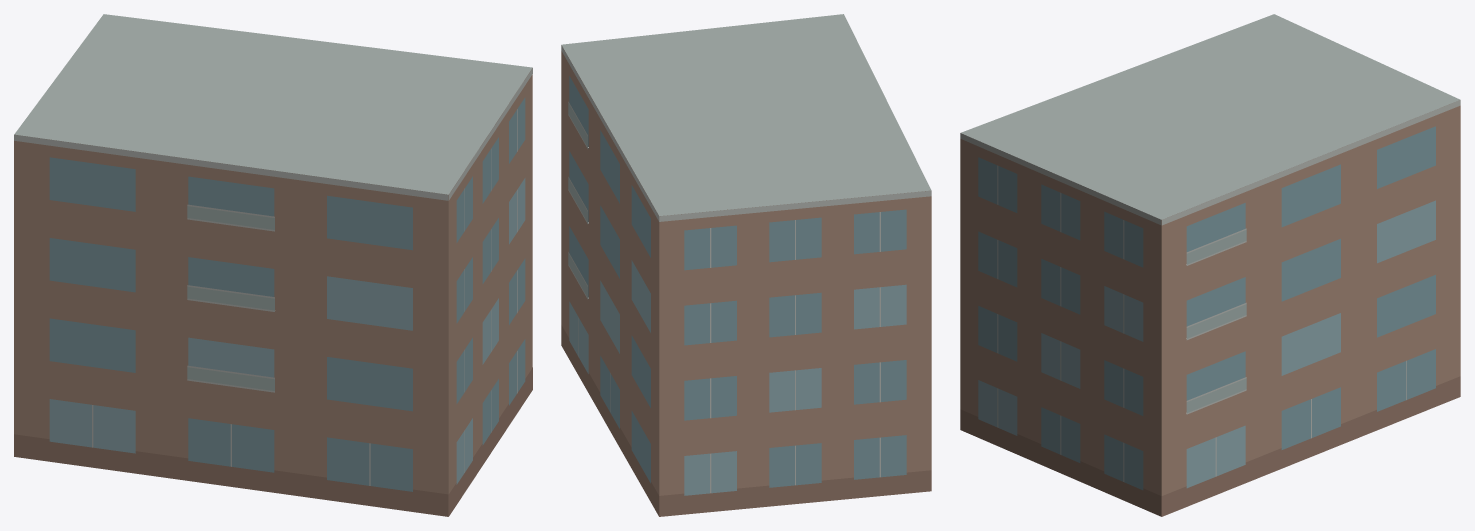
The model's file is survey-upis-32997318.glb.
3 views of the same model, side by side, from view 1: azimuth 30°, elevation 25°; view 2: azimuth 150°, elevation 25°; view 3: azimuth 270°, elevation 25° (orthographic). The views are drawn at different scales.
Visible parts, largest first — view 1: survey-upis-32997318.tmp; view 2: survey-upis-32997318.tmp; view 3: survey-upis-32997318.tmp.
Boxes of the visible parts, box(x1,y1,x2,y2) form: survey-upis-32997318.tmp: box(14, 14, 532, 516); survey-upis-32997318.tmp: box(561, 14, 931, 516); survey-upis-32997318.tmp: box(960, 14, 1460, 516).
Bounding box in the file's own units: 18.89 × 12.7 × 19.4.
